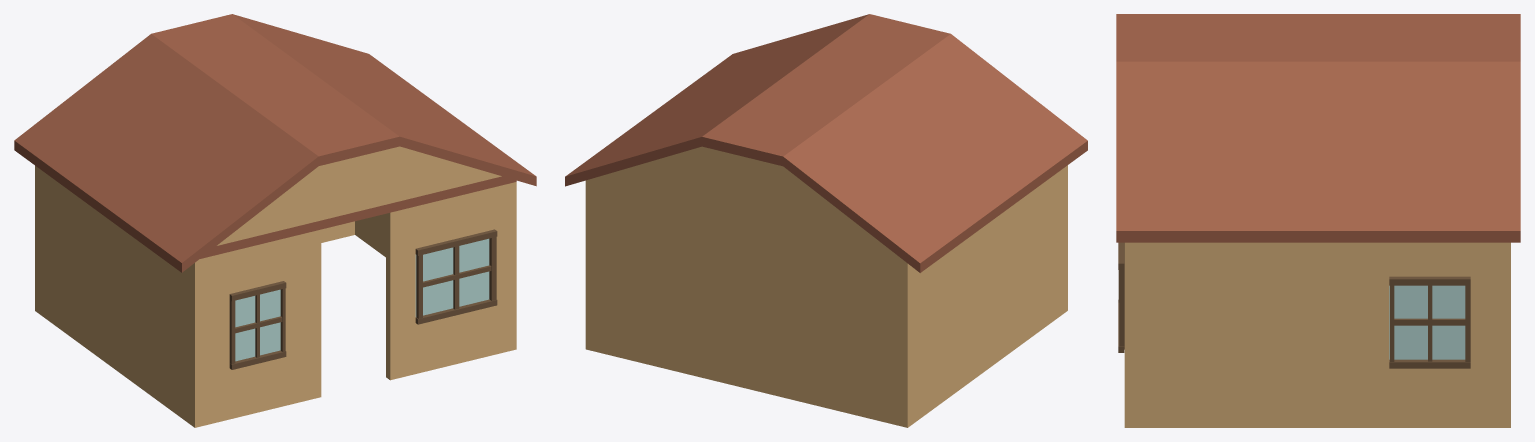
The model's file is House_07.fbx.
3 views of the same model, side by side, from view 1: azimuth 30°, elevation 25°; view 2: azimuth 150°, elevation 25°; view 3: azimuth 270°, elevation 25° (orthographic). The views are drawn at different scales.
Parts seen in each view (by area): view 1: House; view 2: House; view 3: House.
Part boxes in pixels (bbox=[...]): House: bbox=[14, 14, 536, 427]; House: bbox=[565, 14, 1087, 427]; House: bbox=[1116, 14, 1520, 427].
Size of the model in its own units: 421 by 277 by 344.
